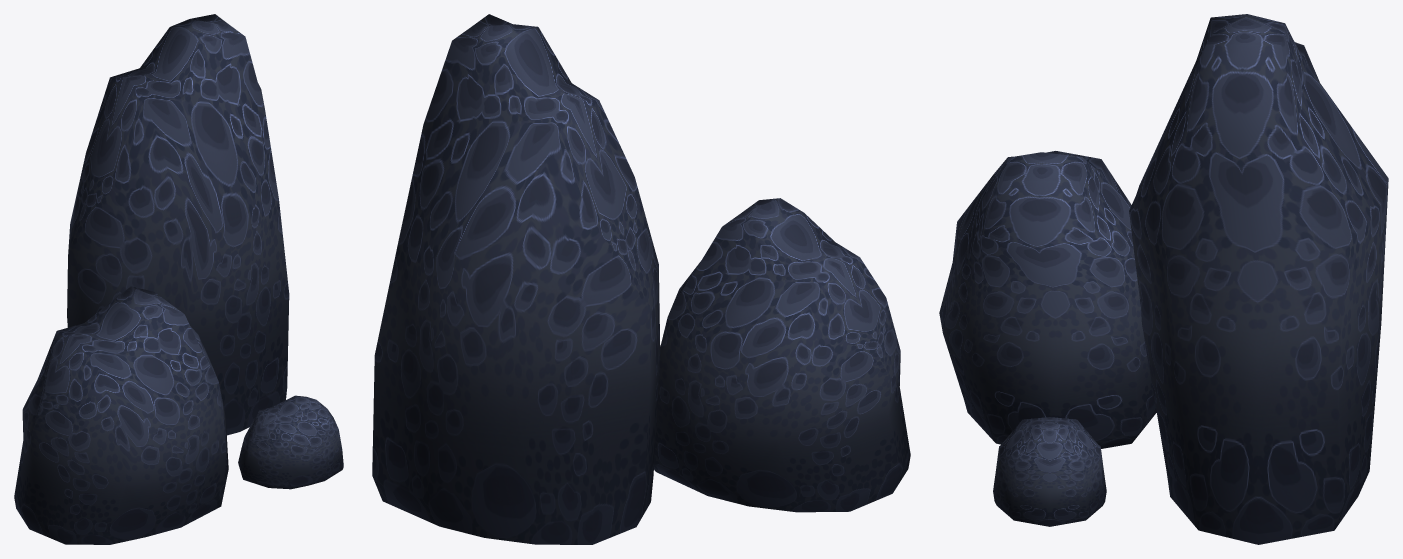
File: Rock_02_Group.FBX
3 renders of one model, left to right at view 1: azimuth 30°, elevation 25°; view 2: azimuth 150°, elevation 25°; view 3: azimuth 270°, elevation 25°, orthographic. The views are drawn at different scales.
Parts seen in each view (by area): view 1: Rock_02_Group; view 2: Rock_02_Group; view 3: Rock_02_Group.
Part boxes in pixels (box(x1,y1,x2,y2)): Rock_02_Group: box(14, 14, 343, 544); Rock_02_Group: box(372, 14, 910, 544); Rock_02_Group: box(939, 14, 1388, 544).
Bounding box in the file's own units: 333 × 359 × 309.
